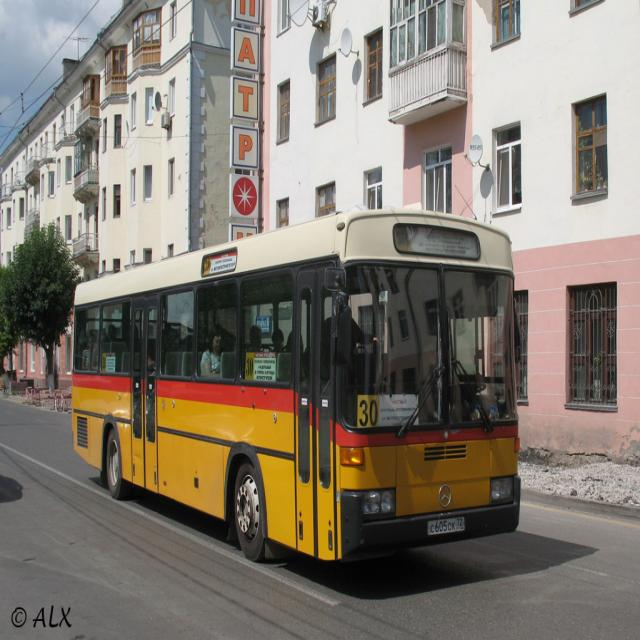number-of-bus: (357, 397, 384, 434)
